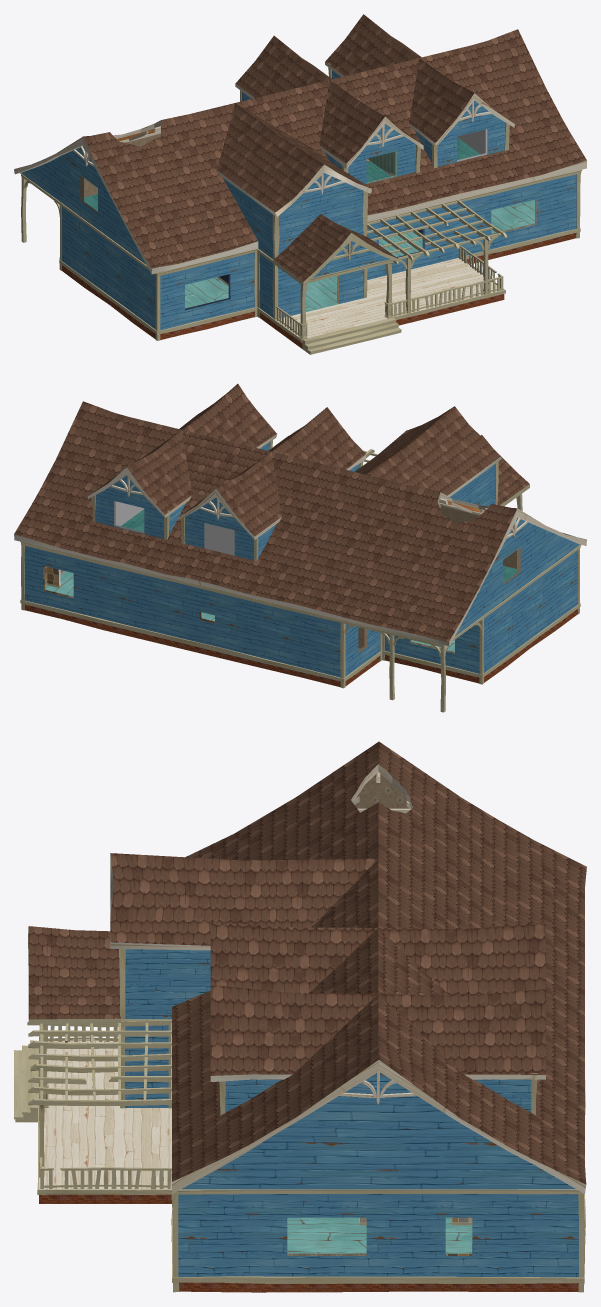
3 views of the same model, one above another, from view 1: azimuth 30°, elevation 25°; view 2: azimuth 150°, elevation 25°; view 3: azimuth 270°, elevation 25° (orthographic). The views are drawn at different scales.
Parts seen in each view (by area): view 1: level_1_floor_2_roof_inst_0, level_1_floor_1_outside_m_0, level_1_floor_1_white_wood_inst_0, level_1_floor_1_walls_inst_0, level_1_floor_1_floor_blue_inst_0, level_1_floor_1_brick3_inst_0, level_1_floor_2_floor_green_inst_0, level_1_floor_2_walls_inst_0, level_1_floor_1_wallpaper_gray_flowers_inst_0, level_1_floor_2_wallpaper_green_stripes_inst_0; view 2: level_1_floor_2_roof_inst_0, level_1_floor_1_outside_m_0, level_1_floor_1_white_wood_inst_0, level_1_floor_1_walls_inst_0, level_1_floor_1_brick3_inst_0, level_1_floor_2_walls_inst_0, level_1_floor_1_wallpaper_gray_flowers_inst_0, level_1_floor_1_floor_blue_inst_0, level_1_floor_2_wood_base_inst_0, level_1_floor_2_floor_green_inst_0; view 3: level_1_floor_2_roof_inst_0, level_1_floor_1_outside_m_0, level_1_floor_1_white_wood_inst_0, level_1_floor_1_walls_inst_0, level_1_floor_1_brick3_inst_0, level_1_floor_1_floor_blue_inst_0, level_1_floor_1_wallpaper_gray_flowers_inst_0, level_1_floor_2_wood_base_inst_0.
Part boxes in pixels (x1,y1,x2,y2): level_1_floor_2_roof_inst_0: (83,14,586,281); level_1_floor_1_outside_m_0: (21,70,576,330); level_1_floor_1_white_wood_inst_0: (20,44,582,354); level_1_floor_1_walls_inst_0: (14,62,586,337); level_1_floor_1_floor_blue_inst_0: (185,199,534,311); level_1_floor_1_brick3_inst_0: (61,233,576,348); level_1_floor_2_floor_green_inst_0: (84,137,480,211); level_1_floor_2_walls_inst_0: (457,129,487,161); level_1_floor_1_wallpaper_gray_flowers_inst_0: (80,133,160,213); level_1_floor_2_wallpaper_green_stripes_inst_0: (366,151,396,183); level_1_floor_2_roof_inst_0: (14,384,574,641); level_1_floor_1_outside_m_0: (24,442,579,677); level_1_floor_1_white_wood_inst_0: (20,440,581,712); level_1_floor_1_walls_inst_0: (14,422,586,646); level_1_floor_1_brick3_inst_0: (24,604,577,687); level_1_floor_2_walls_inst_0: (114,501,234,555); level_1_floor_1_wallpaper_gray_flowers_inst_0: (358,505,520,653); level_1_floor_1_floor_blue_inst_0: (45,571,454,651); level_1_floor_2_wood_base_inst_0: (437,492,488,515); level_1_floor_2_floor_green_inst_0: (121,509,516,583); level_1_floor_2_roof_inst_0: (28,741,586,1184); level_1_floor_1_outside_m_0: (125,949,578,1277); level_1_floor_1_white_wood_inst_0: (14,927,585,1292); level_1_floor_1_walls_inst_0: (39,854,586,1193); level_1_floor_1_brick3_inst_0: (39,1040,578,1292); level_1_floor_1_floor_blue_inst_0: (287,1217,472,1253); level_1_floor_1_wallpaper_gray_flowers_inst_0: (355,774,409,808); level_1_floor_2_wood_base_inst_0: (351,764,413,813).
Bounding box in the file's own units: 72.9 × 25.38 × 55.11.
Materials: 25 (24 with a texture image).
